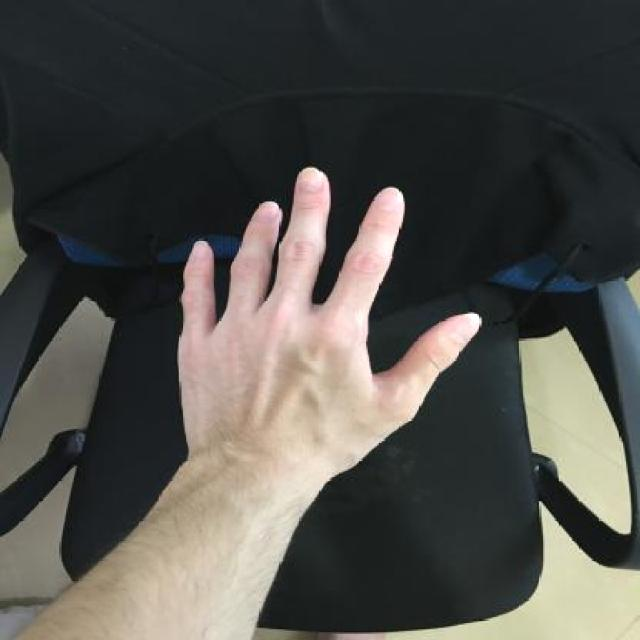no_glove: (166, 156, 492, 490)
